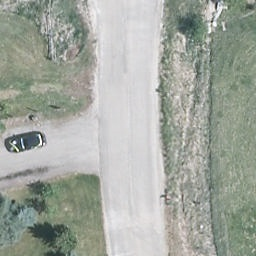car: (6, 132, 49, 152)
